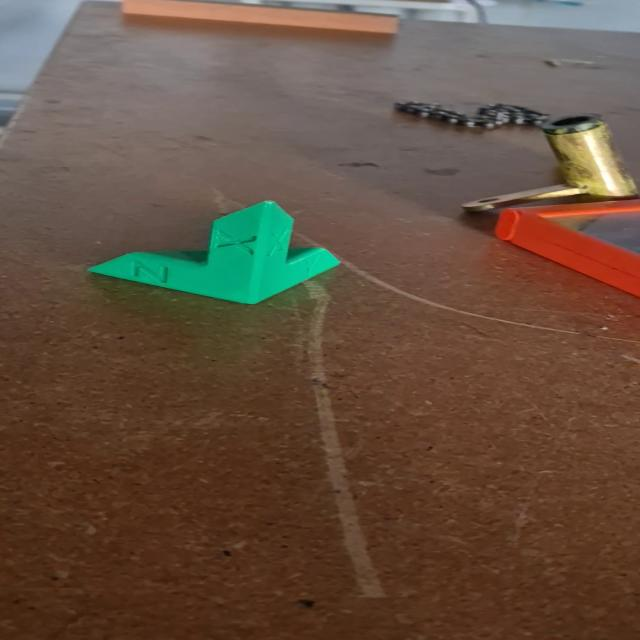objects: (86, 200, 342, 306)
